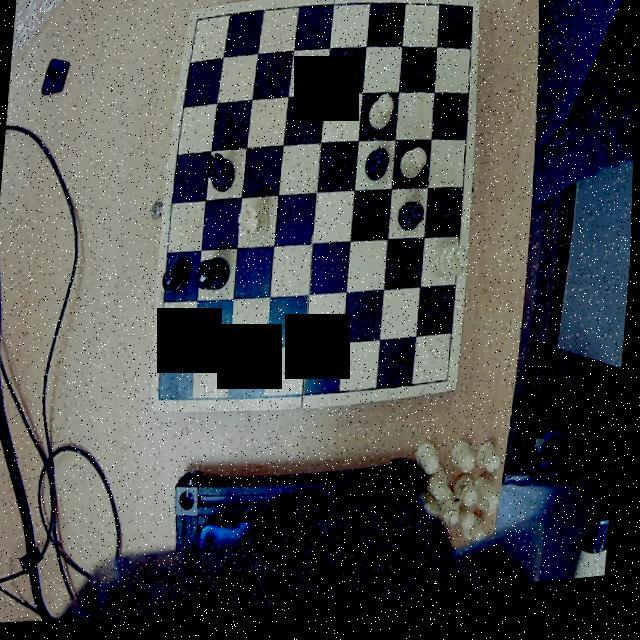chess-table-corners: (154, 386, 178, 414), (436, 378, 458, 404), (192, 12, 212, 36), (464, 6, 480, 34)
